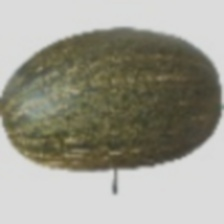honeydew: (25, 30, 180, 204)
